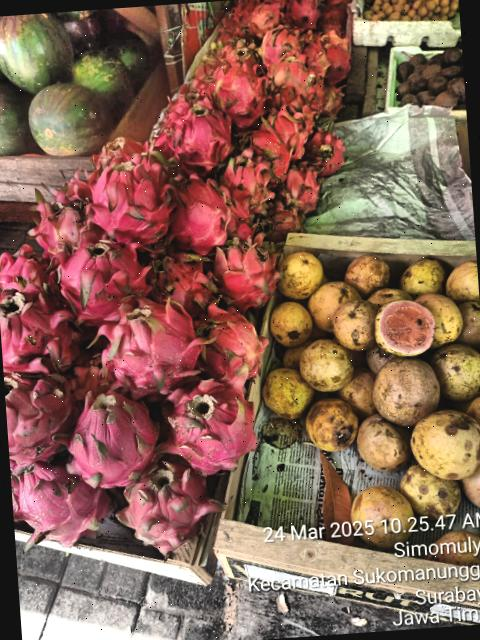buah-naga-matang: (87, 288, 208, 395), (149, 376, 270, 478), (58, 384, 168, 488), (115, 461, 227, 556), (78, 135, 174, 242), (10, 452, 116, 548), (54, 225, 158, 322), (4, 366, 82, 464), (0, 282, 80, 374), (184, 296, 264, 382), (210, 235, 290, 308), (166, 96, 238, 172), (164, 165, 229, 242), (144, 248, 222, 310), (28, 178, 86, 260), (214, 58, 272, 134), (218, 146, 276, 222), (238, 124, 293, 186), (262, 102, 316, 162), (0, 243, 55, 297), (277, 162, 325, 212), (303, 126, 348, 174), (268, 52, 316, 94), (254, 22, 304, 61), (257, 205, 308, 243), (319, 38, 353, 78), (218, 38, 263, 68), (313, 80, 348, 114)
